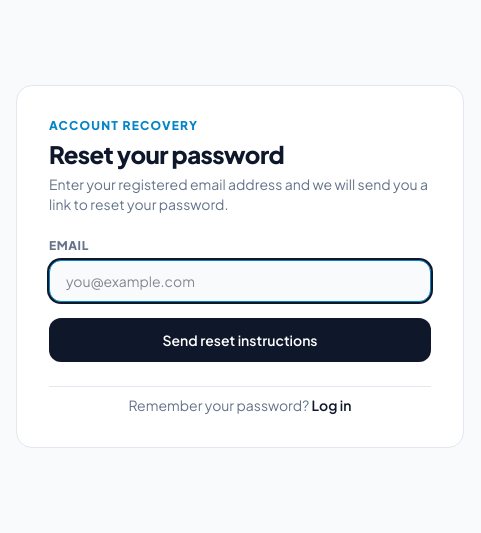
Scenario: Password Reset Flows › cooldown disables resend
This screenshot has width=481, height=533.
Later steps or results of the test are not shown.
Type "cooldown@example.com" into the field labelled "Email" at [240, 280], box [49,260,431,302]
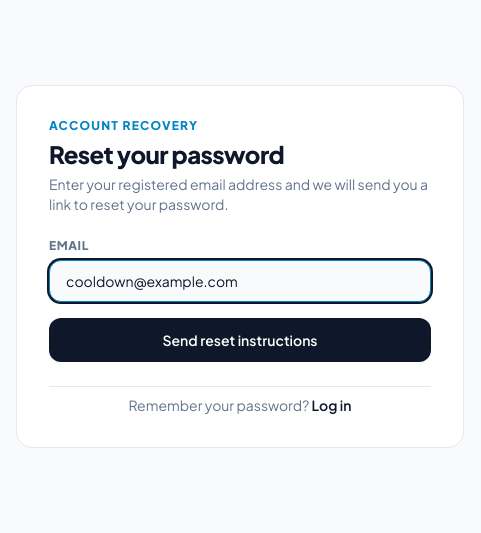
Click the button "Send reset instructions" at [240, 340], box [49,318,431,362]
Wait 60000 ms
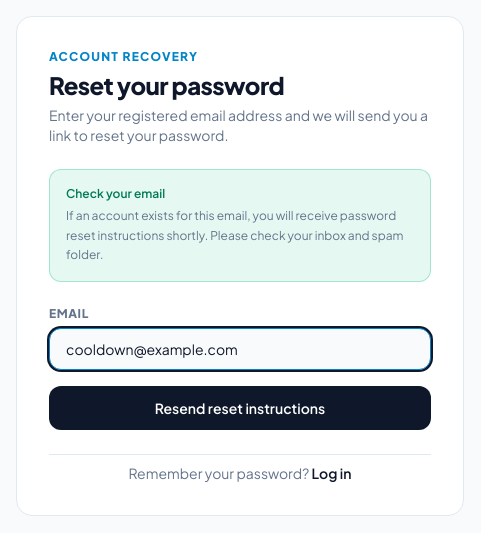
Expected: the button is enabled, [49,386,431,430]
Expected: the button reads "Resend reset instructions", [49,386,431,430]
